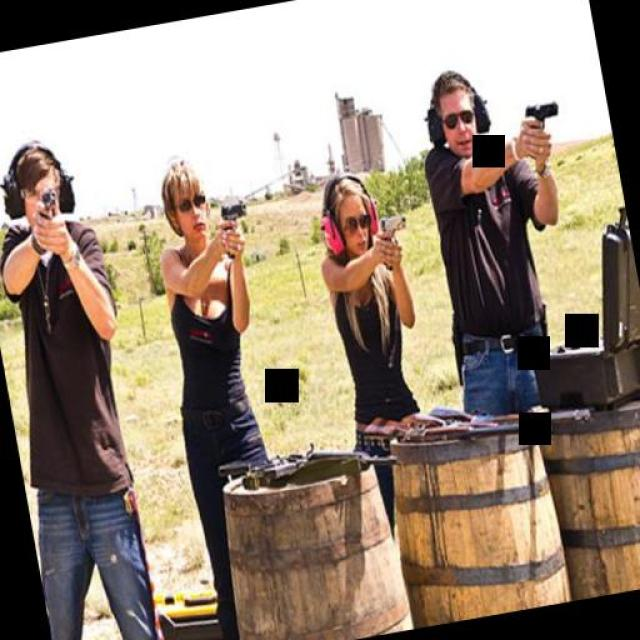gun: (372, 210, 412, 272), (520, 98, 564, 148), (215, 198, 253, 248), (31, 182, 61, 230)
